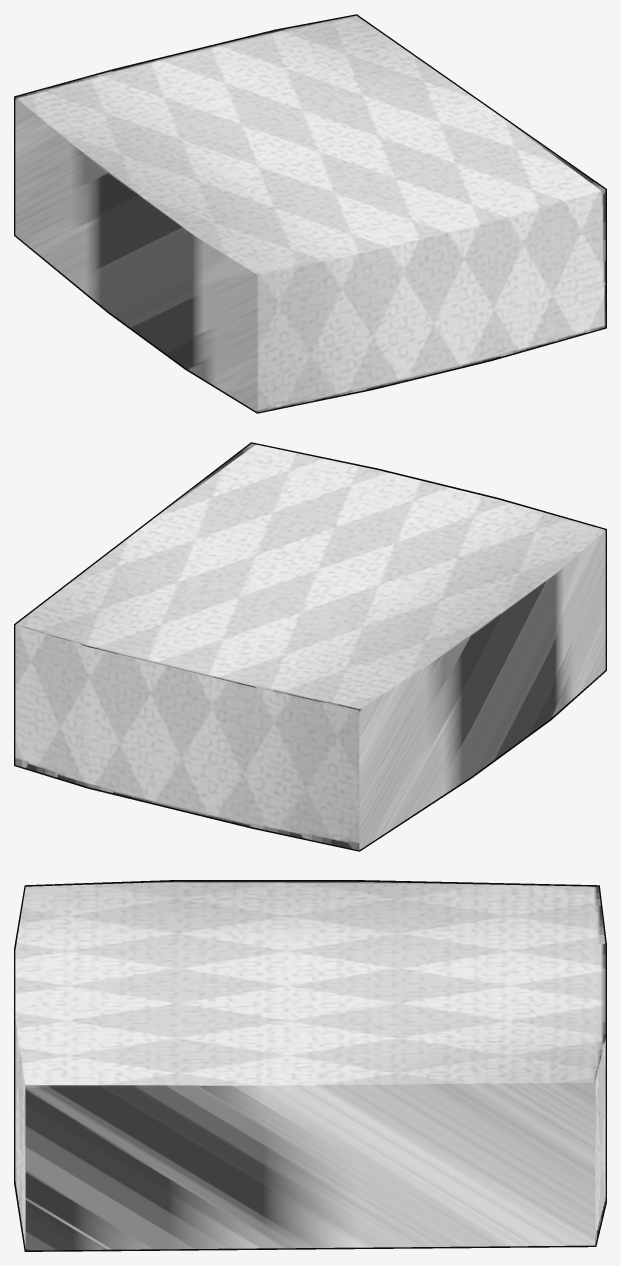
Rendered from Building_RusticRug_Broad_Things_Building_FloorCoverings_RusticRugBroad_RusticRugBroadB.glb.
3 views of the same model, one above another, from view 1: azimuth 30°, elevation 25°; view 2: azimuth 150°, elevation 25°; view 3: azimuth 270°, elevation 25° (orthographic). The views are drawn at different scales.
Parts seen in each view (by area): view 1: Body, Outline; view 2: Body, Outline; view 3: Body, Outline.
Boxes of the visible parts, x1,y1,x2,y2 form: Body: (15, 15, 605, 412); Outline: (14, 14, 606, 413); Body: (15, 443, 605, 850); Outline: (14, 442, 606, 851); Body: (15, 881, 605, 1250); Outline: (14, 880, 606, 1251).
Bounding box in the file's own units: 1.98 × 0.7371 × 2.4.
2 materials, 1 textured.
